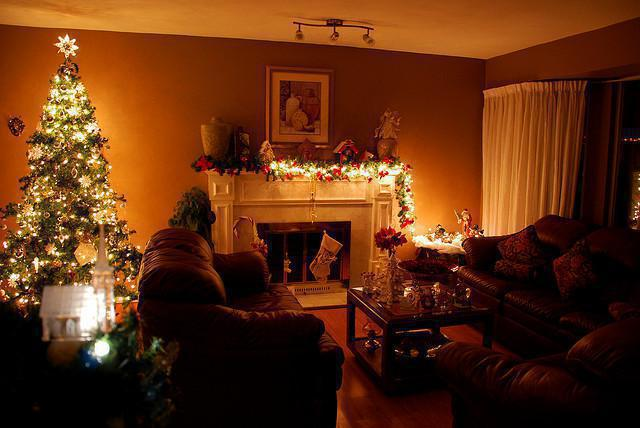Matera: (12, 34, 135, 324), (162, 187, 216, 286)
